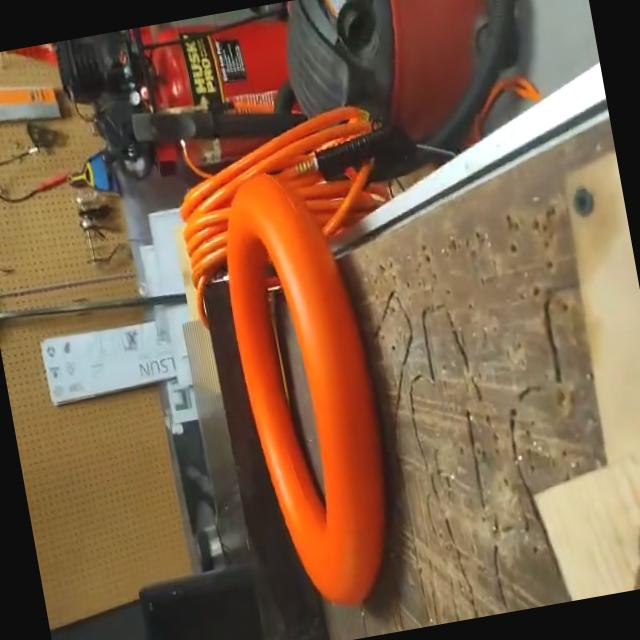note: (204, 152, 416, 623)
